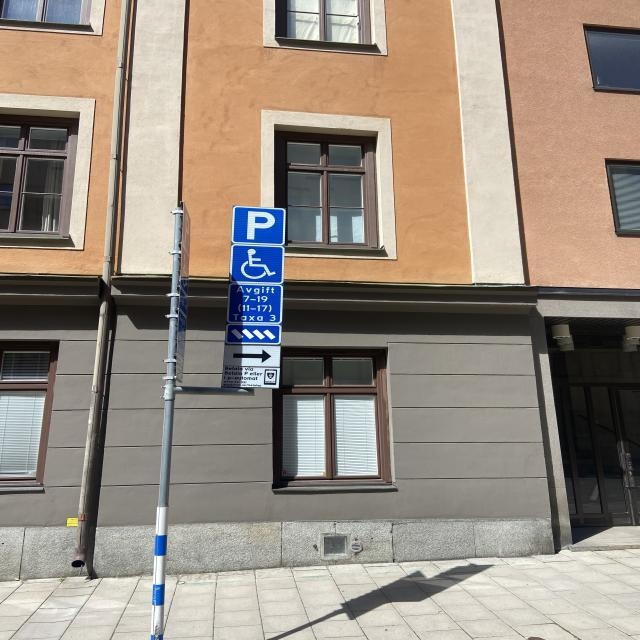P-skylt: (231, 204, 287, 246)
